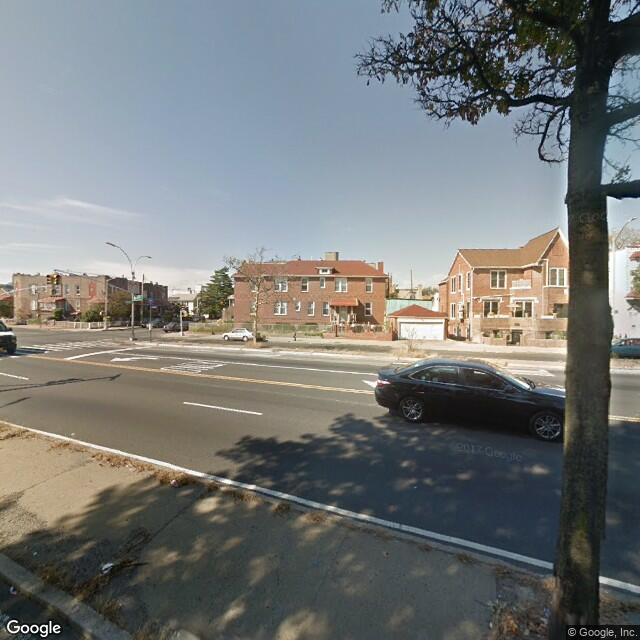litter: (170, 476, 179, 487), (9, 586, 18, 594), (102, 566, 114, 571), (33, 548, 40, 555), (490, 620, 493, 626)
